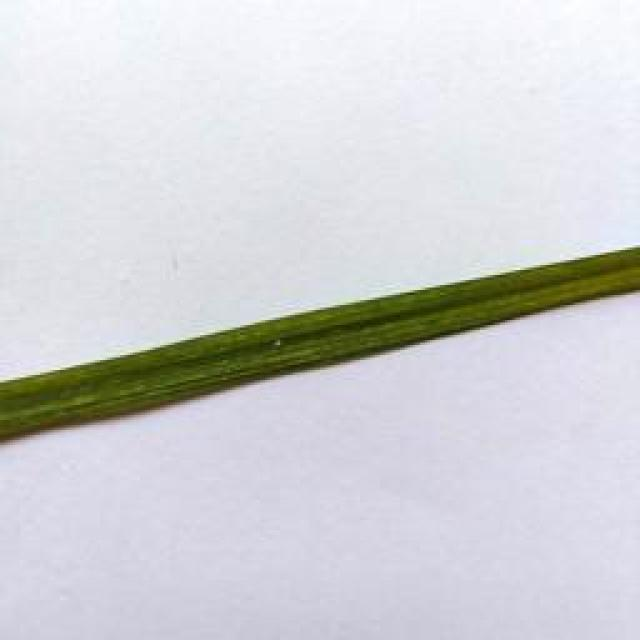Healthy-Plant: (0, 246, 640, 449)
